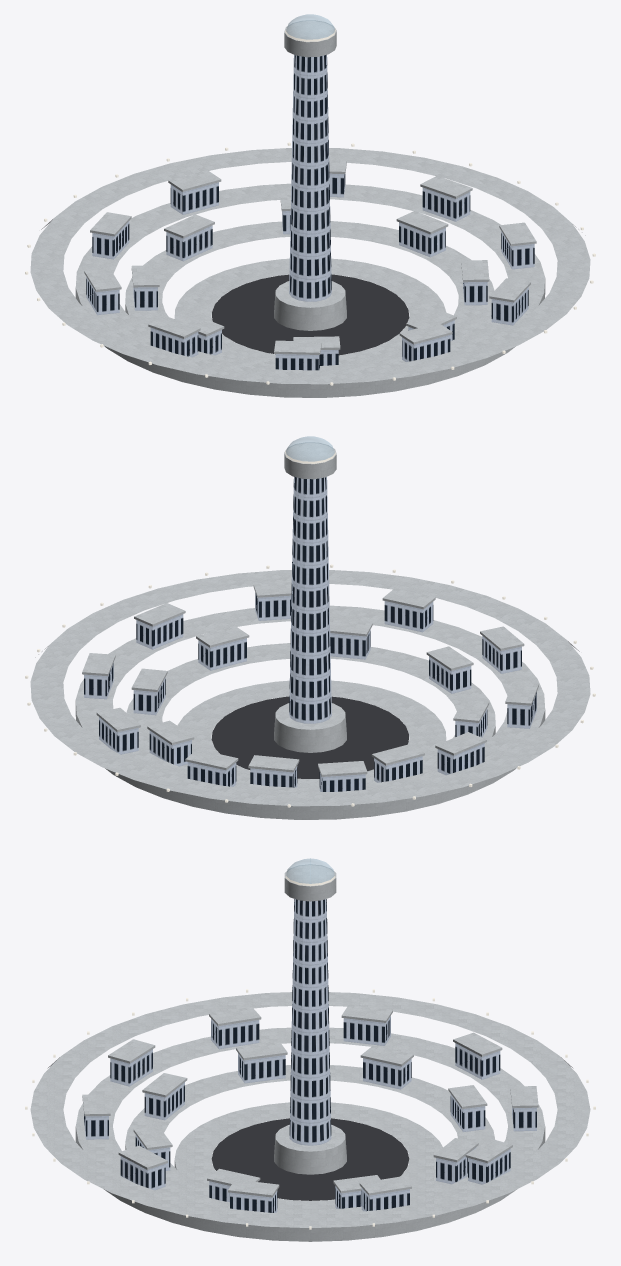
The model's file is moon_crater_arcade_town.glb.
3 views of the same model, one above another, from view 1: azimuth 30°, elevation 25°; view 2: azimuth 150°, elevation 25°; view 3: azimuth 270°, elevation 25° (orthographic).
Visible parts, largest first — view 1: moon_crater_arcade_town_LOD0; view 2: moon_crater_arcade_town_LOD0; view 3: moon_crater_arcade_town_LOD0.
Boxes of the visible parts, x1,y1,x2,y2 form: moon_crater_arcade_town_LOD0: (25,14,595,397); moon_crater_arcade_town_LOD0: (25,436,595,819); moon_crater_arcade_town_LOD0: (25,858,595,1241).
Size of what is drawn, in the model's own units: 72 by 42 by 72.
Materials: 4 (3 with a texture image).
